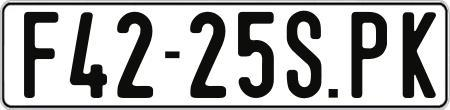2: (190, 12, 230, 103), (116, 10, 155, 99)
4: (67, 11, 104, 98)
5: (237, 10, 276, 98)
F: (22, 9, 61, 100)
K: (400, 12, 430, 104)
P: (351, 11, 386, 102)
S: (285, 8, 321, 101)
